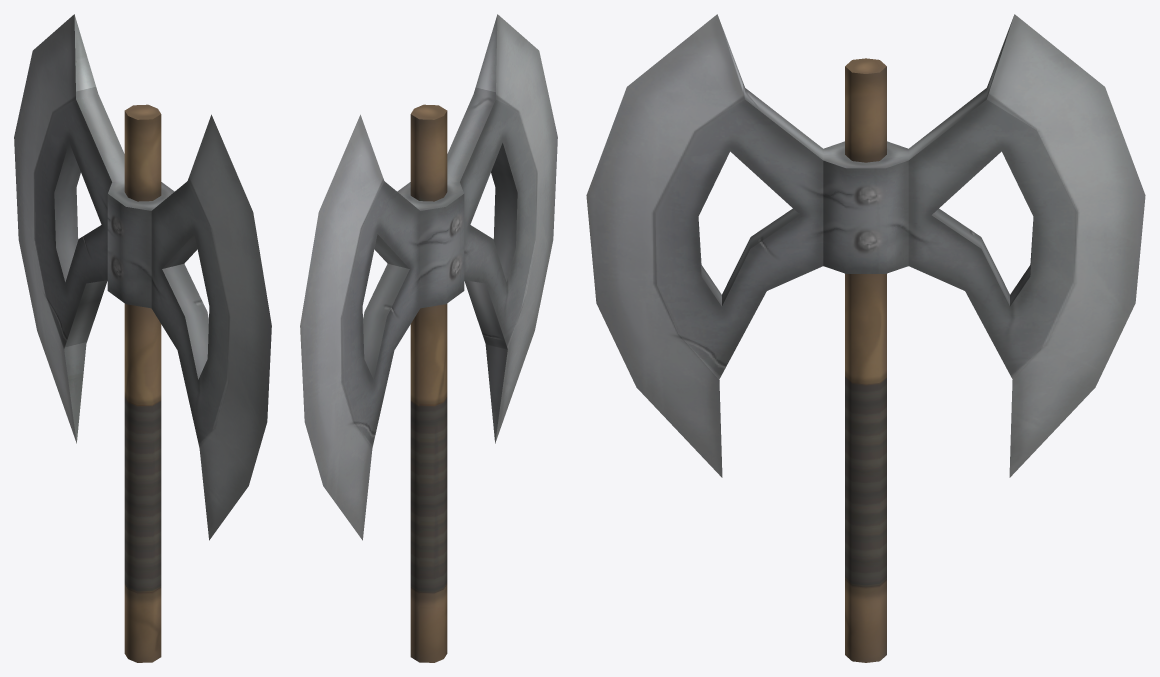
The model's file is axe-2.glb.
3 views of the same model, side by side, from view 1: azimuth 30°, elevation 25°; view 2: azimuth 150°, elevation 25°; view 3: azimuth 270°, elevation 25° (orthographic). The views are drawn at different scales.
Parts seen in each view (by area): view 1: axe_2.001_Plane.011; view 2: axe_2.001_Plane.011; view 3: axe_2.001_Plane.011.
Part boxes in pixels (left/top/right/bottom): axe_2.001_Plane.011: left=14, top=14, right=271, bottom=662; axe_2.001_Plane.011: left=300, top=14, right=557, bottom=662; axe_2.001_Plane.011: left=586, top=14, right=1145, bottom=662.
Bounding box in the file's own units: 0.2354 × 2.54 × 2.01.
1 material, 1 textured.
